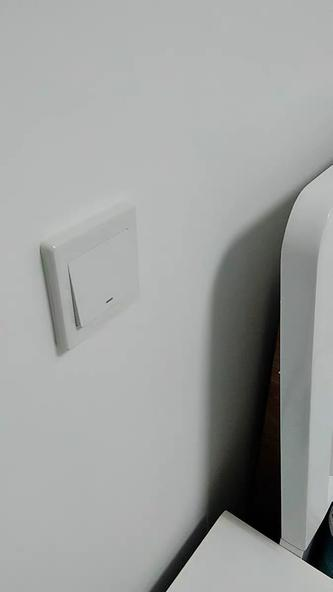switch: (62, 253, 137, 313)
